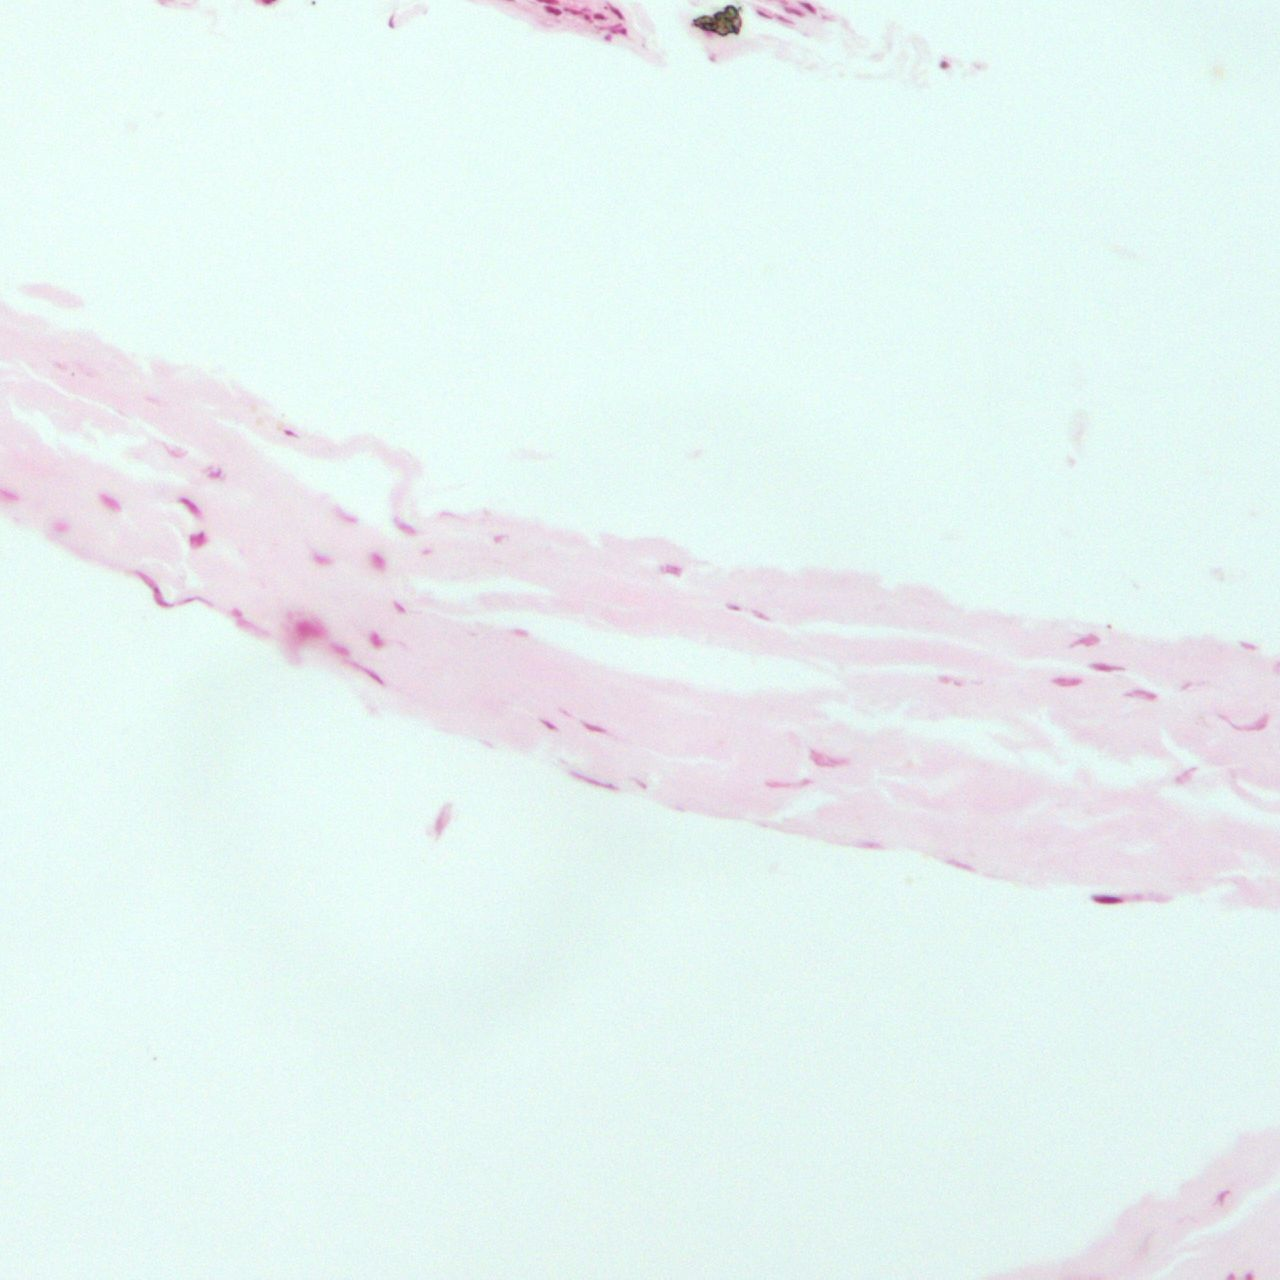dust: (693, 5, 742, 38), (939, 61, 948, 69)
nucleus-AC: (273, 612, 331, 651), (135, 568, 173, 611), (561, 767, 621, 794), (341, 656, 384, 687), (1171, 762, 1203, 789), (1067, 629, 1103, 652), (178, 493, 205, 523), (1220, 716, 1269, 731), (761, 775, 813, 789), (393, 515, 418, 539), (946, 855, 978, 874), (809, 751, 849, 767), (98, 491, 124, 515), (538, 716, 563, 737), (338, 508, 361, 529), (583, 720, 607, 738), (367, 628, 386, 651), (231, 607, 248, 629), (553, 703, 576, 720), (1124, 689, 1158, 700), (749, 607, 772, 622), (331, 640, 350, 658), (390, 599, 408, 617), (1088, 662, 1125, 670), (372, 552, 387, 572), (178, 594, 203, 606), (606, 2, 624, 19), (632, 776, 651, 791), (937, 676, 966, 686), (775, 13, 794, 27), (189, 532, 205, 547), (1216, 1190, 1230, 1207), (543, 5, 561, 18), (785, 5, 803, 18), (1091, 896, 1123, 903), (663, 564, 682, 576), (564, 6, 583, 18), (282, 427, 299, 440), (312, 554, 331, 565), (610, 23, 627, 34), (1055, 678, 1081, 685), (513, 628, 532, 638), (1239, 642, 1259, 651), (755, 9, 770, 20), (52, 522, 68, 531), (207, 469, 223, 478), (726, 604, 741, 611), (493, 535, 506, 543), (1244, 1272, 1257, 1280), (1226, 1271, 1237, 1280), (862, 843, 881, 847), (583, 13, 592, 22), (593, 13, 606, 19), (421, 549, 433, 554), (389, 14, 394, 28), (604, 34, 611, 41)
